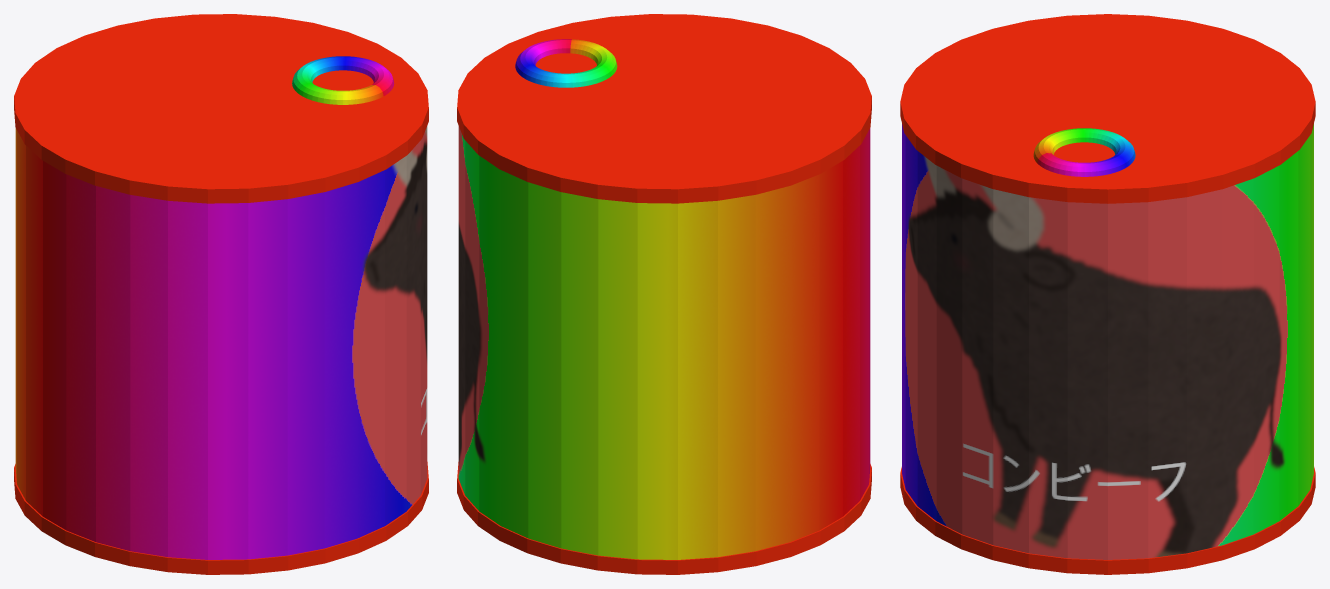
The model's file is kan_platina.fbx.
The picture shows the model from 3 angles, left to right: view 1: azimuth 30°, elevation 25°; view 2: azimuth 150°, elevation 25°; view 3: azimuth 270°, elevation 25°; orthographic projection.
Visible parts, largest first — view 1: Cylinder, Cylinder.001, Cylinder.002, Torus; view 2: Cylinder, Cylinder.001, Cylinder.002, Torus; view 3: Cylinder, Cylinder.001, Cylinder.002, Torus.
Boxes of the visible parts, bbox=[...] form: Cylinder: bbox=[15, 126, 427, 559]; Cylinder.001: bbox=[14, 14, 428, 203]; Cylinder.002: bbox=[14, 462, 428, 574]; Torus: bbox=[292, 56, 394, 104]; Cylinder: bbox=[458, 126, 870, 559]; Cylinder.001: bbox=[457, 14, 871, 203]; Cylinder.002: bbox=[457, 462, 871, 574]; Torus: bbox=[515, 39, 617, 87]; Cylinder: bbox=[902, 124, 1313, 559]; Cylinder.001: bbox=[900, 14, 1315, 203]; Cylinder.002: bbox=[900, 467, 1315, 574]; Torus: bbox=[1033, 128, 1135, 176].
Bounding box in the file's own units: 201 × 211 × 201.
Materials: 3 (3 with a texture image).
